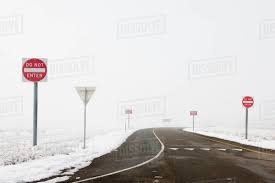doNotEnter: (20, 55, 49, 84), (241, 93, 255, 108)
